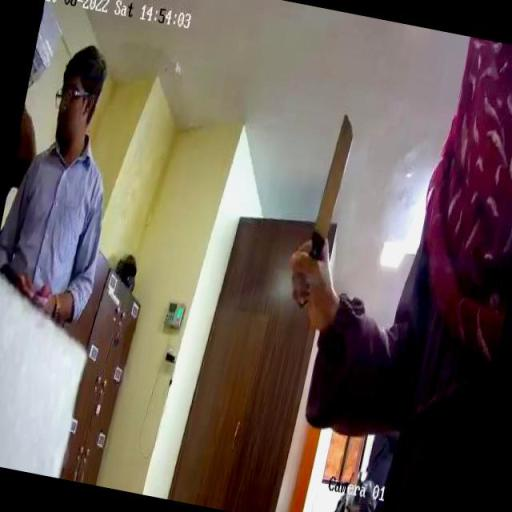knife: (286, 104, 364, 318)
